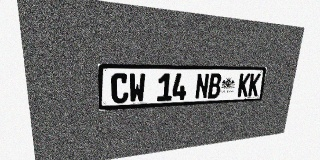1: (157, 73, 173, 101)
4: (172, 73, 187, 101)
B: (207, 73, 222, 99)
C: (111, 73, 128, 104)
K: (237, 73, 251, 97), (248, 73, 261, 97)
N: (195, 73, 209, 99)
W: (129, 73, 145, 103)
